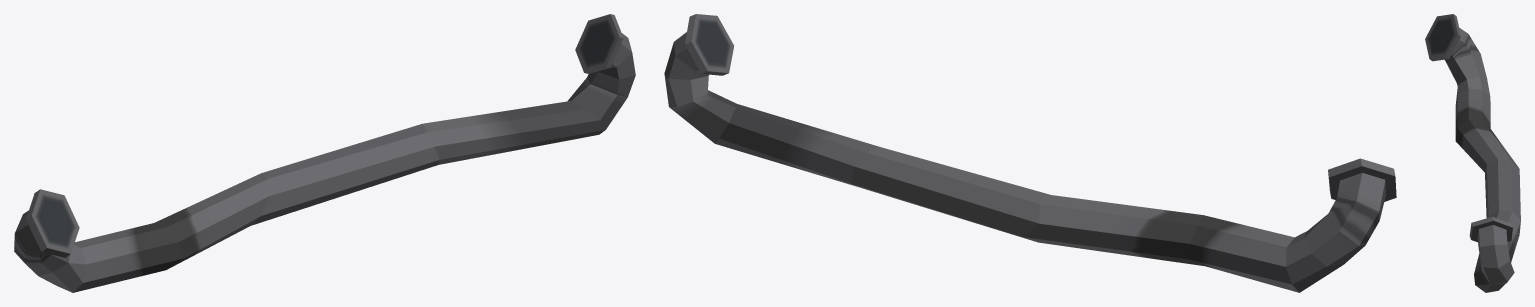
The model's file is SM_Prop_Junk_Pipe_02.fbx.
The picture shows the model from 3 angles, left to right: view 1: azimuth 30°, elevation 25°; view 2: azimuth 150°, elevation 25°; view 3: azimuth 270°, elevation 25°; orthographic projection. The views are drawn at different scales.
Visible parts, largest first — view 1: SM_Prop_Junk_Pipe_02; view 2: SM_Prop_Junk_Pipe_02; view 3: SM_Prop_Junk_Pipe_02.
Part boxes in pixels (box(x1,y1,x2,y2)): SM_Prop_Junk_Pipe_02: box(14, 14, 635, 292); SM_Prop_Junk_Pipe_02: box(664, 14, 1396, 292); SM_Prop_Junk_Pipe_02: box(1425, 14, 1520, 292).
Bounding box in the file's own units: 493 × 94.99 × 87.94.
